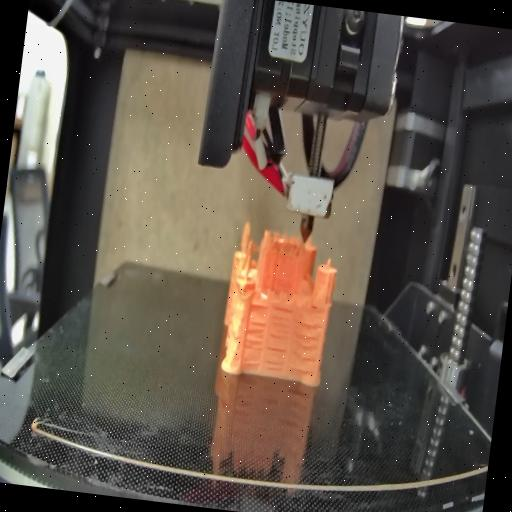cracks: (288, 320, 322, 374), (240, 320, 268, 366), (268, 300, 296, 342), (262, 344, 286, 374), (250, 300, 270, 312), (307, 300, 321, 314)
